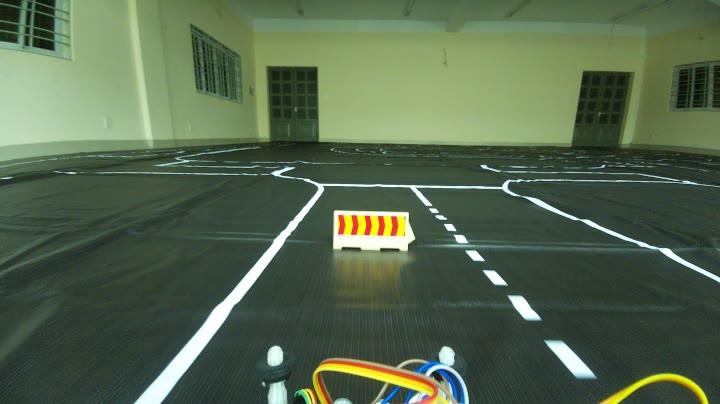roadblock: (322, 201, 424, 263)
